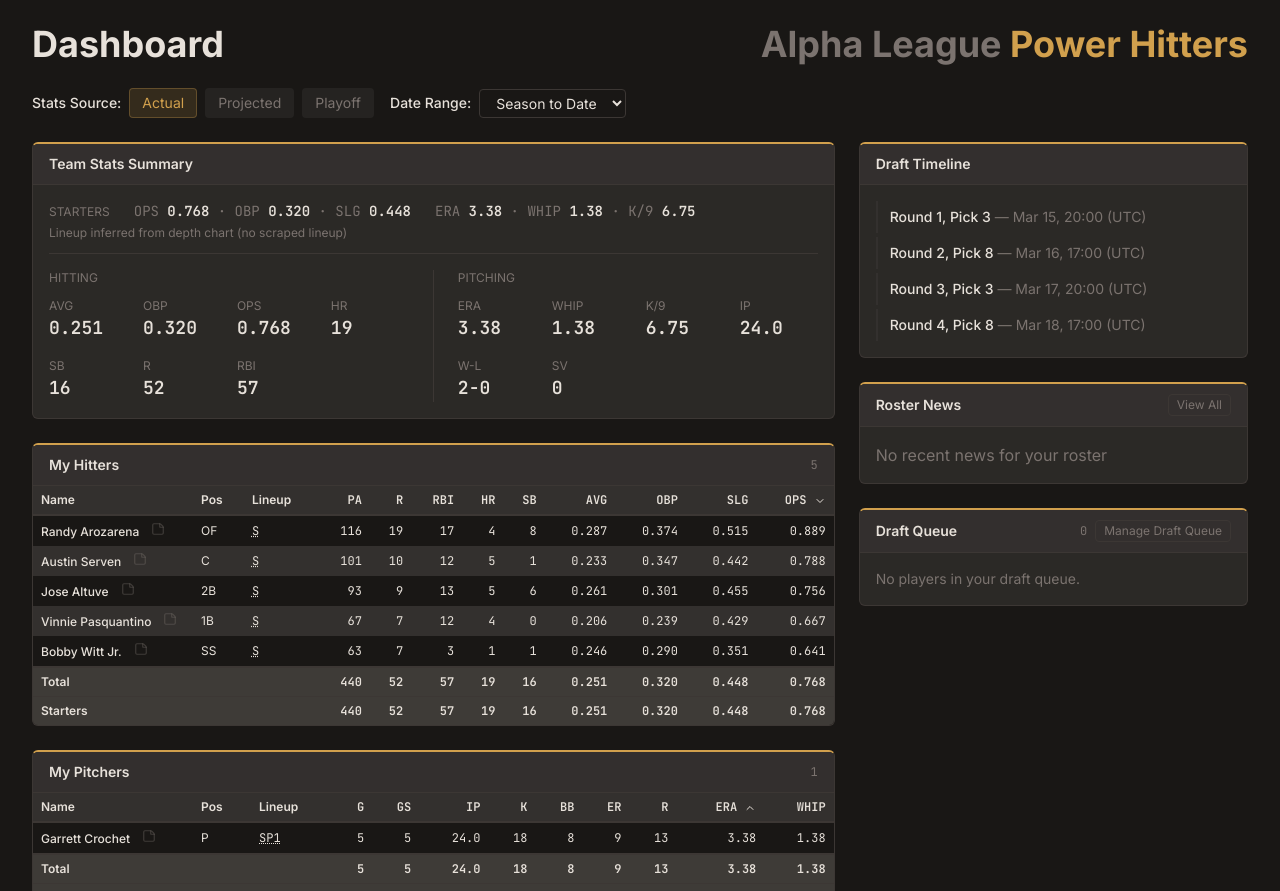
Test: DashboardPage › playoff mode shows the window note, playoff-weighted badge, and playing-time columns
Click the button "Playoff".
click(338, 103)  # box [302, 88, 374, 118]
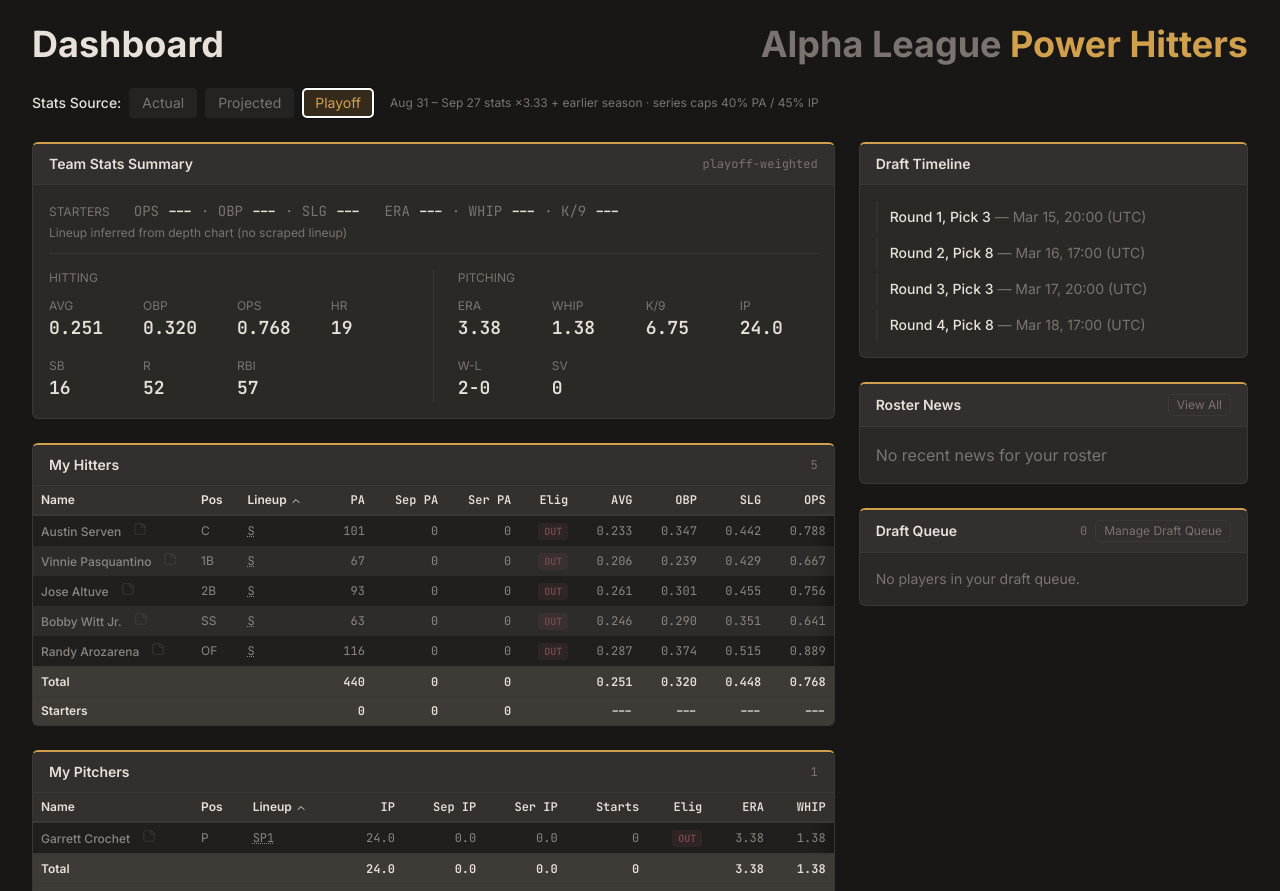
Expected: the text with test id "playoff-mode-note" is shown, [390, 95, 818, 111]
Expected: the text "playoff-weighted" is shown, [702, 156, 818, 172]
Expected: the column heading "Sep PA" is shown, [373, 486, 446, 515]
